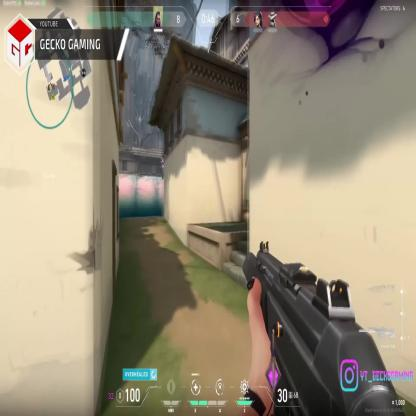enemy: (160, 155, 166, 181)
enemy_head: (161, 155, 163, 159)
